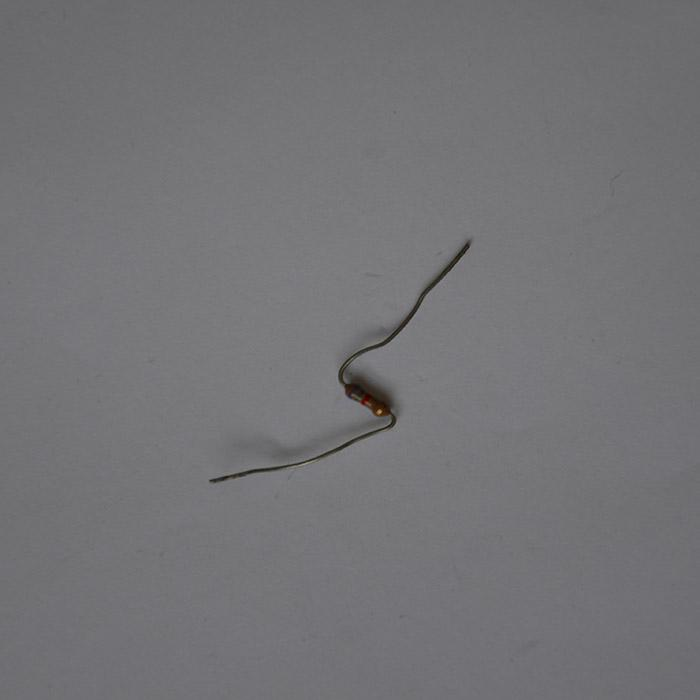resistor: (344, 381, 390, 417)
